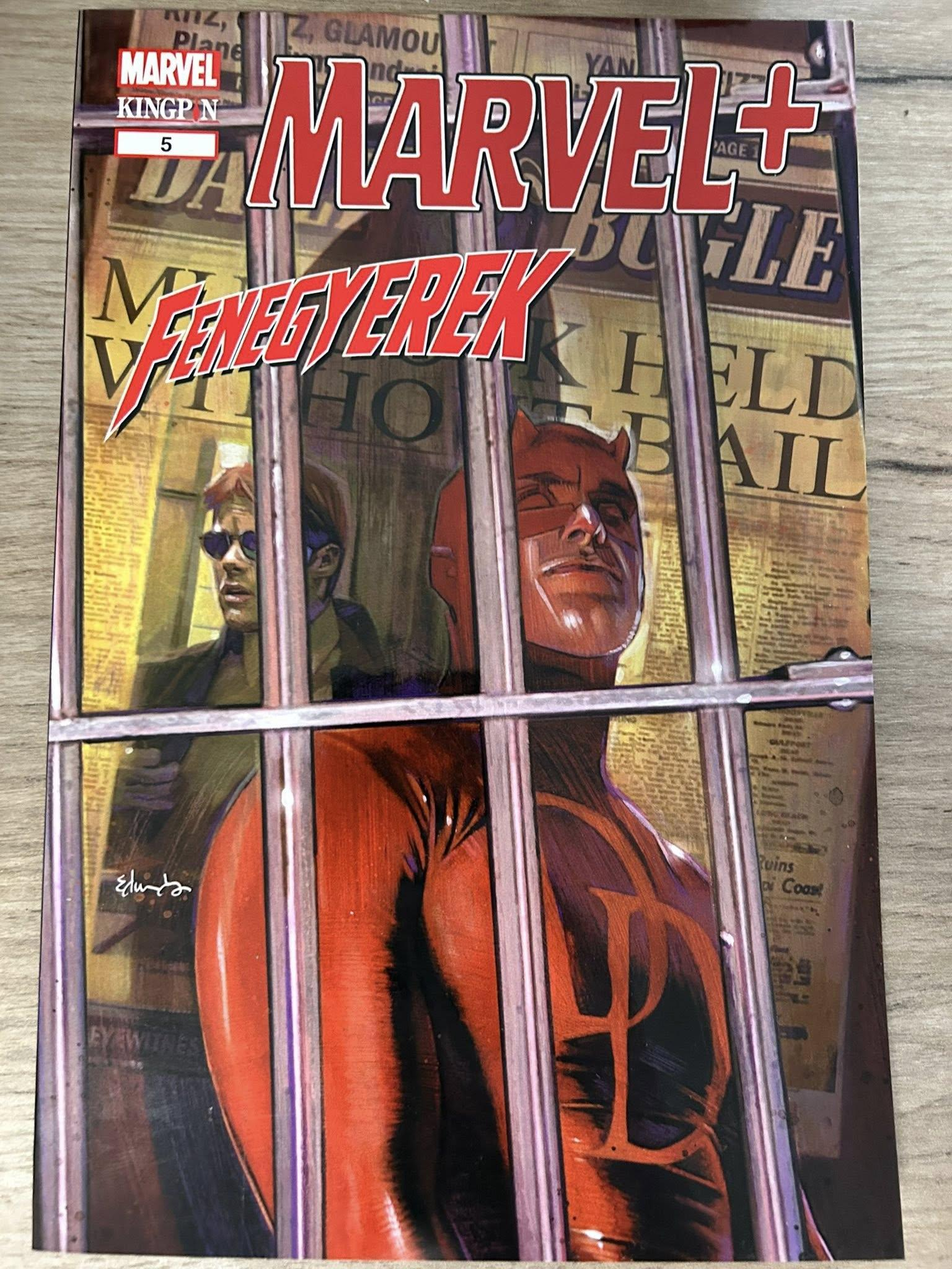comic: (35, 8, 910, 1263)
